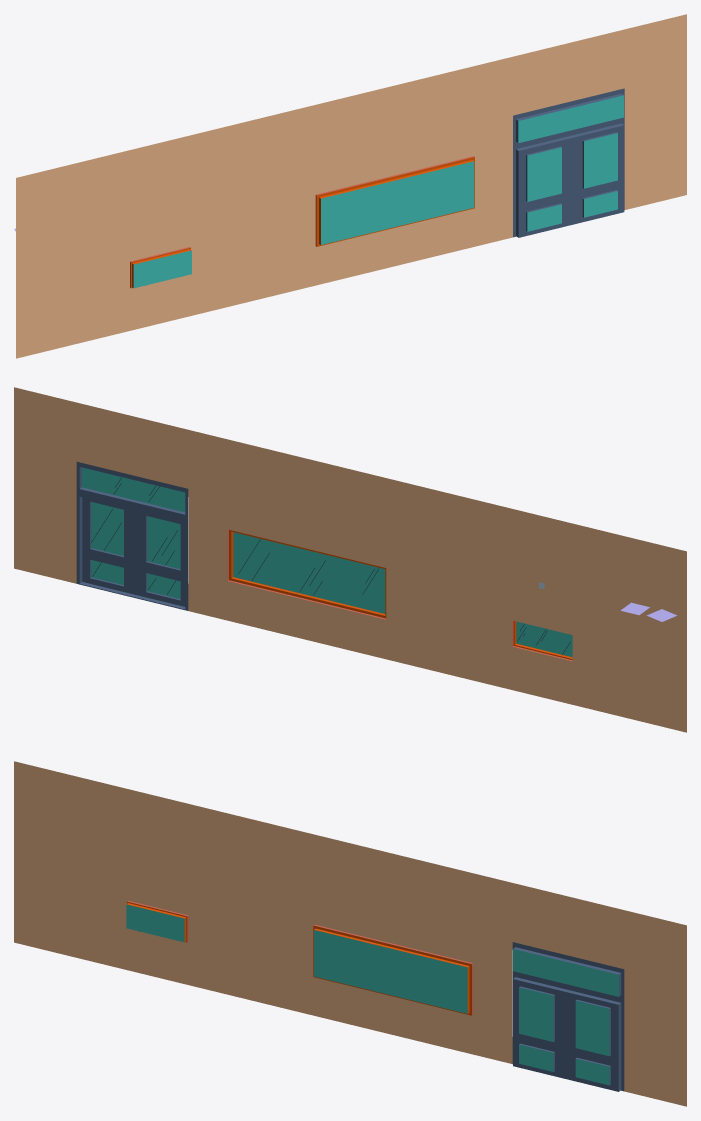
Rendered from Walls.fbx.
3 views of the same model, one above another, from view 1: azimuth 30°, elevation 25°; view 2: azimuth 150°, elevation 25°; view 3: azimuth 330°, elevation 25° (orthographic).
Parts seen in each view (by area): view 1: DOME_019_Krusty_Burger.002; view 2: DOME_019_Krusty_Burger.002; view 3: DOME_019_Krusty_Burger.002.
Part boxes in pixels (<box>): DOME_019_Krusty_Burger.002: <box>14,14,686,358</box>; DOME_019_Krusty_Burger.002: <box>14,387,686,732</box>; DOME_019_Krusty_Burger.002: <box>14,761,686,1106</box>.
Size of the model in its own units: 2312 by 595 by 104.
Materials: 1 (1 with a texture image).
